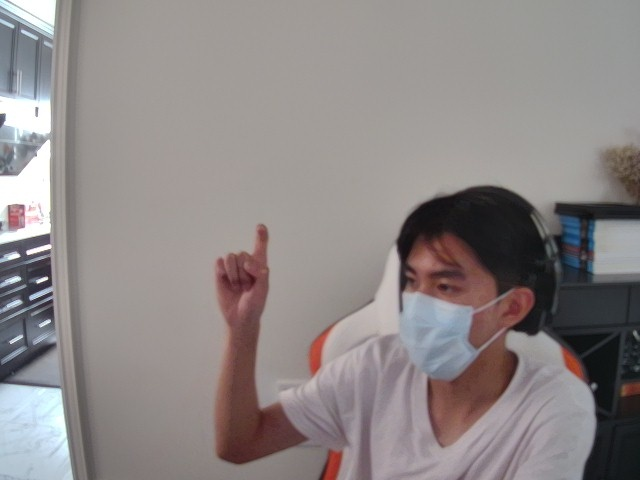X: (208, 221, 281, 331)
